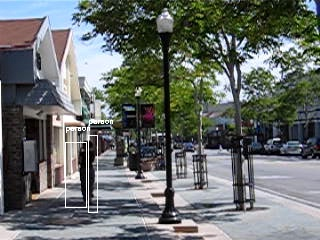person: (77, 141, 98, 207), (76, 141, 97, 207), (78, 141, 99, 207), (77, 140, 98, 206), (77, 142, 98, 208)
target_negative: (240, 72, 310, 219), (216, 40, 259, 217), (230, 67, 306, 102), (250, 77, 269, 115), (73, 155, 303, 157), (313, 210, 317, 239)
